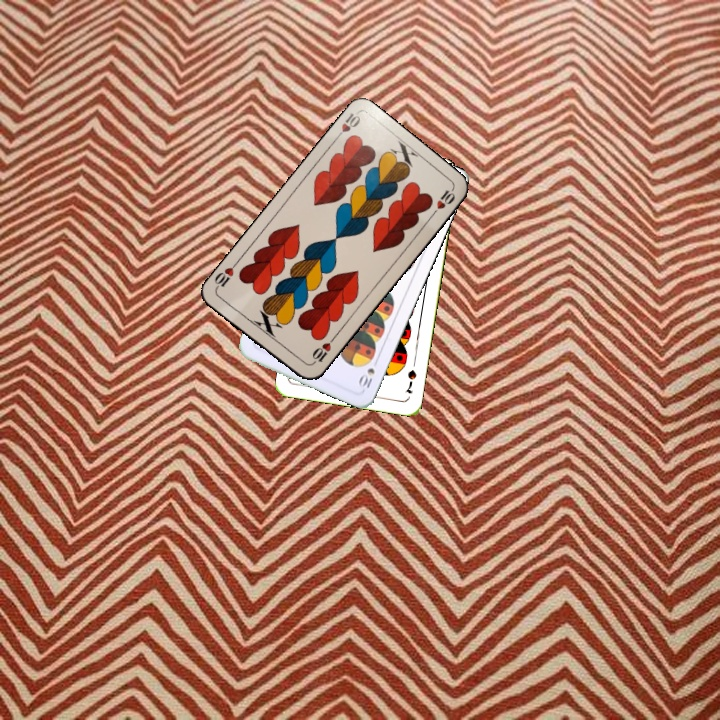H10: (330, 109, 363, 143), (307, 333, 337, 368)
S10: (354, 354, 381, 392)
S7: (401, 366, 419, 396)
